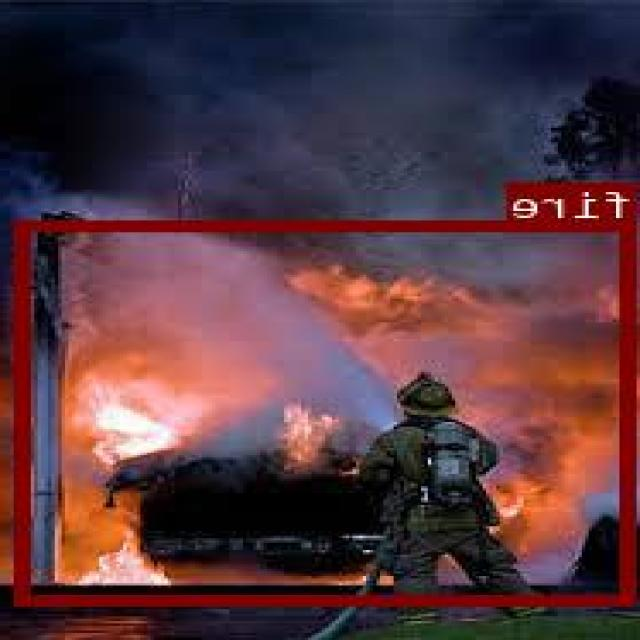fire: (21, 220, 640, 602)
